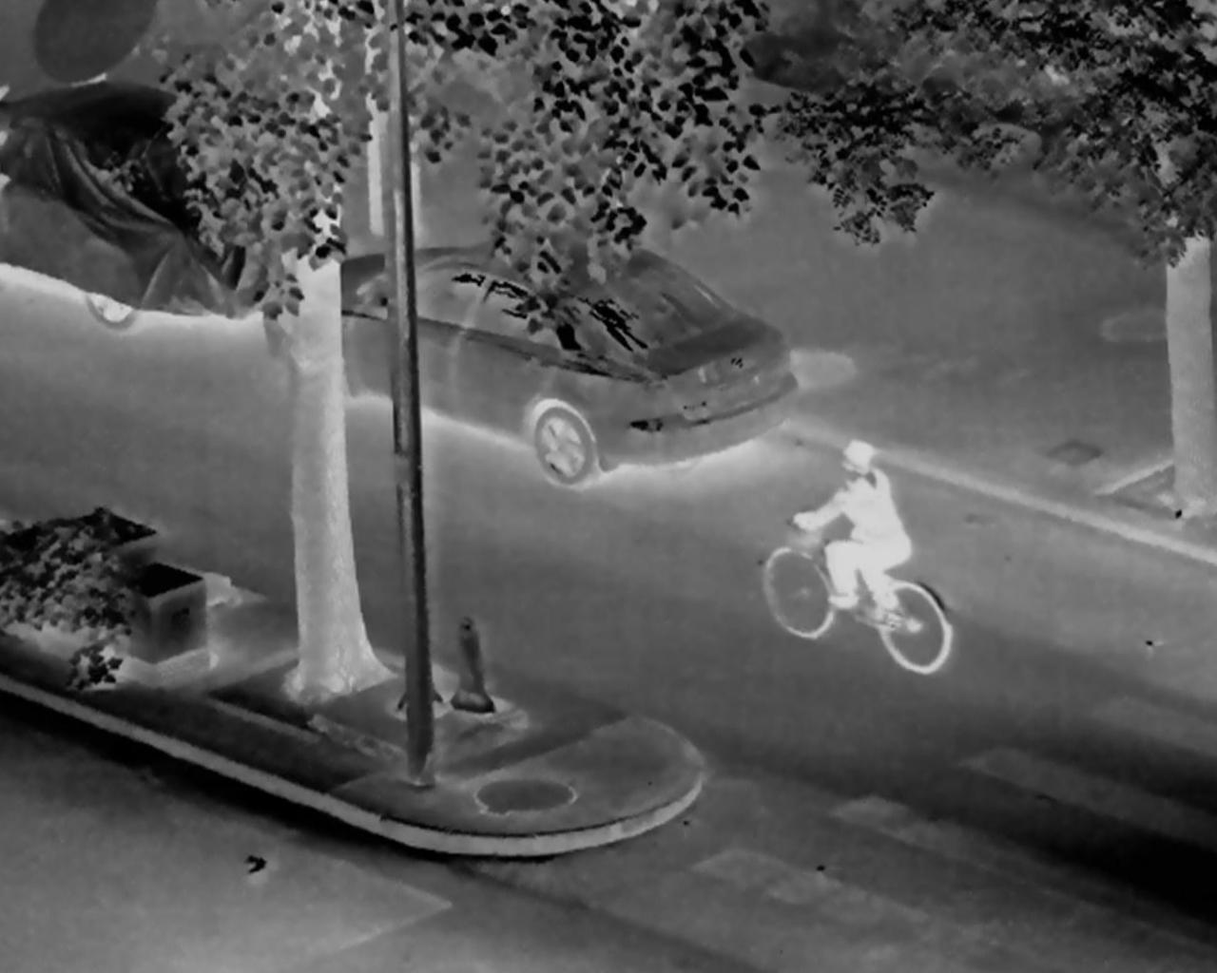person: (790, 440, 914, 621)
